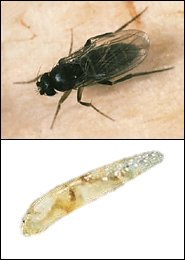phorid fly: (15, 16, 172, 132)
